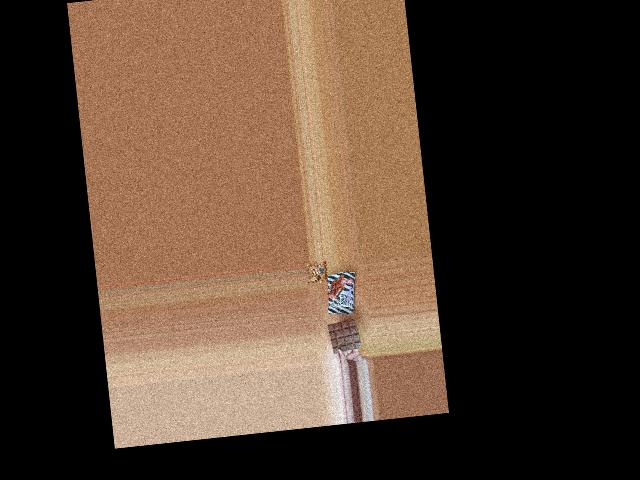chocolate: (325, 268, 358, 317)
